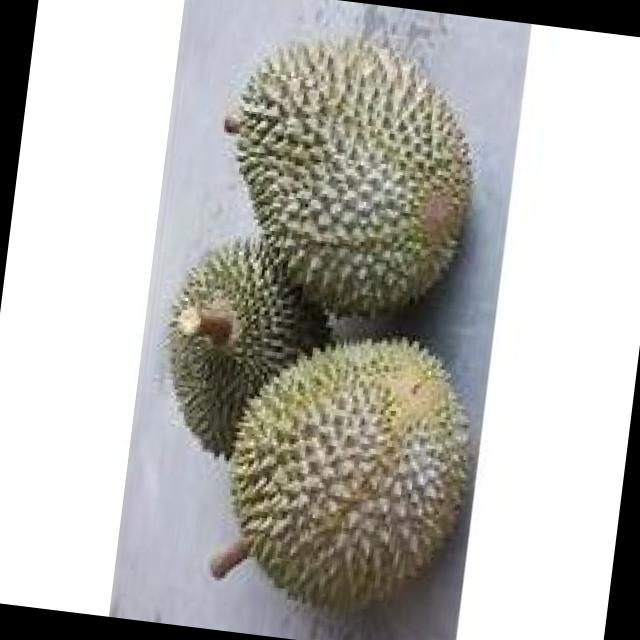fruit: (192, 0, 507, 347), (183, 304, 489, 640)
